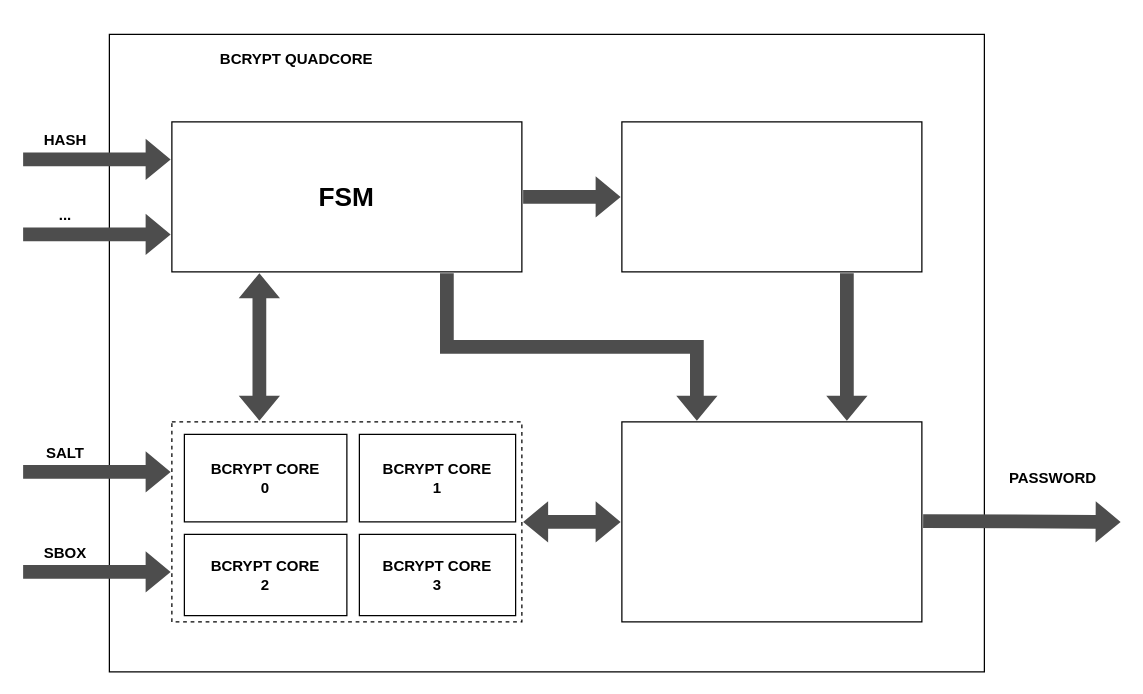
The diagram is 1143 pixels wide and 694 high, and some of its shapes have lost their labels. The shapes that lost their labels are listed below. From the top down, each one's box as (x1, y1, x2, y2) in pixels, then its label:
(621, 121, 922, 272): PASSWORD_GENERATOR
(621, 421, 922, 622): BRAM password_memory 16kb
